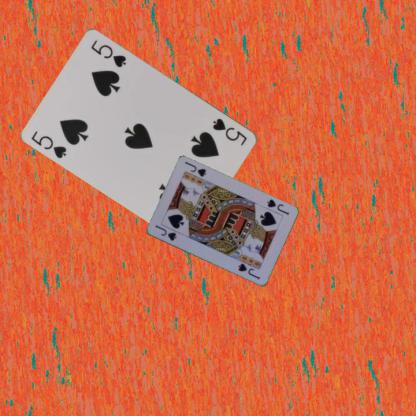5s: (28, 128, 68, 160), (210, 116, 248, 146)
Js: (264, 196, 290, 216), (152, 222, 177, 242)
